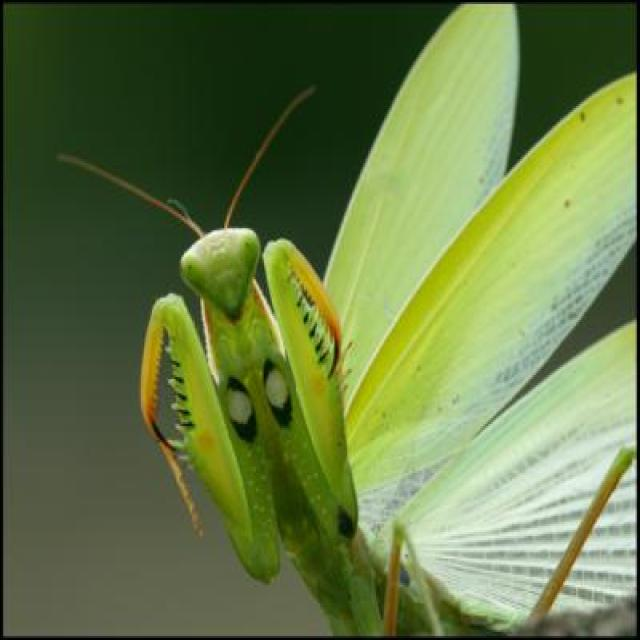antennae: (223, 90, 313, 234), (58, 154, 203, 240)
body: (175, 228, 500, 640)
insect: (54, 0, 638, 640)
legs: (141, 290, 277, 592), (262, 237, 366, 528), (493, 442, 635, 640), (379, 522, 435, 640)
mouthpart: (210, 288, 248, 324)
wings: (349, 82, 639, 522), (368, 320, 638, 604), (346, 2, 524, 432)
